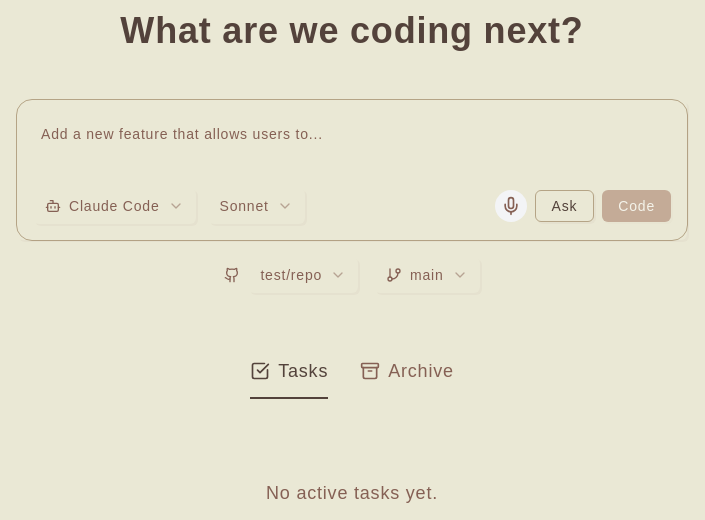
it: ChatInterface › should switch between tasks and archive tabs
Click the button "Archive" at (407, 378), box x1=360 y1=357 x2=454 y2=399
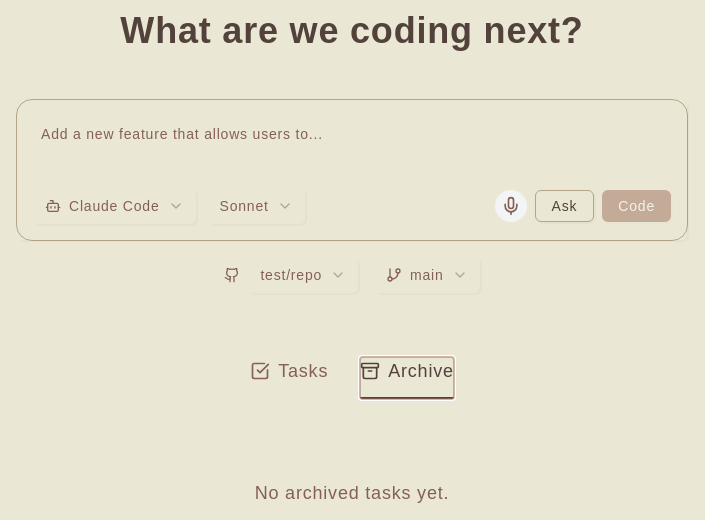
Expected: the text "No archived tasks yet." is shown, x1=255 y1=483 x2=449 y2=503
